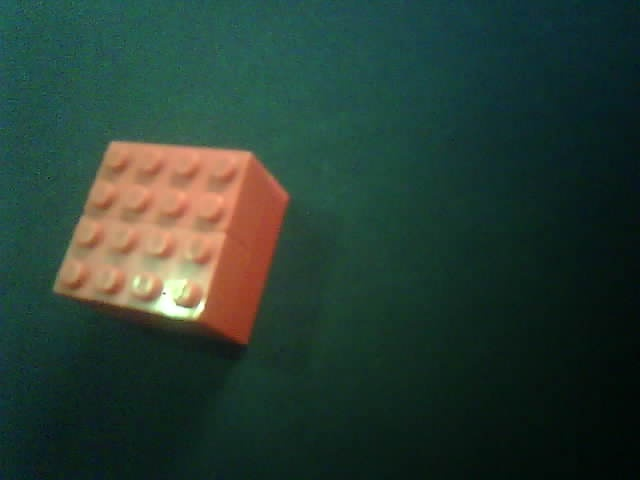lego: (50, 139, 290, 348)
